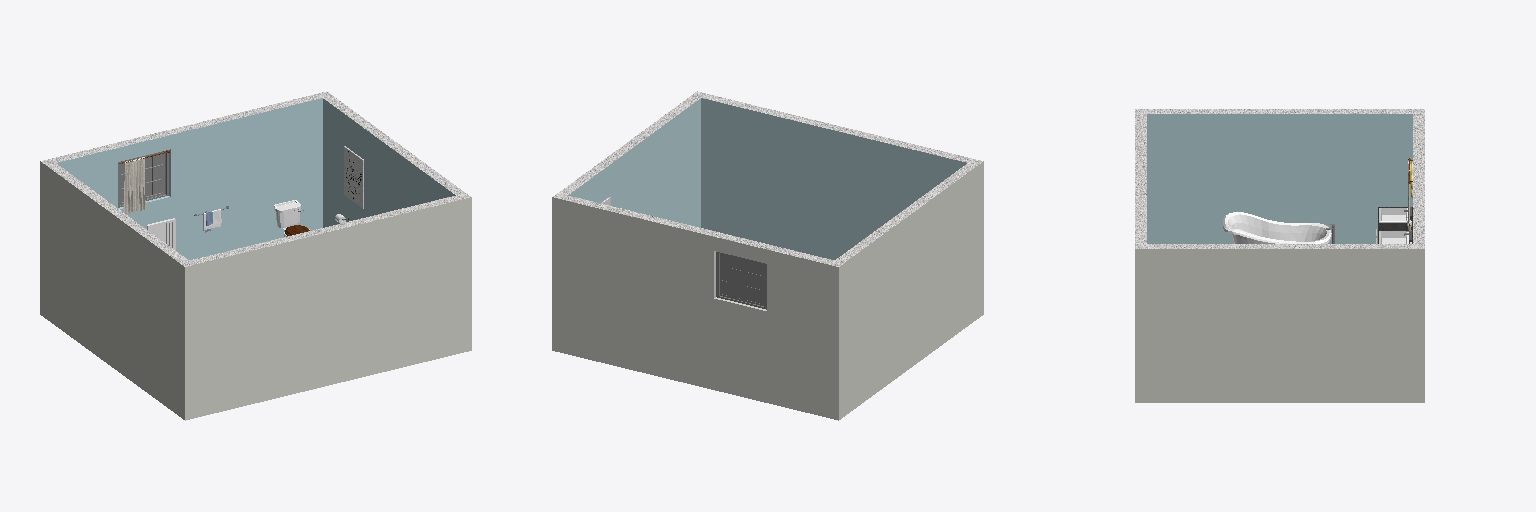
3 renders of one model, left to right at view 1: azimuth 30°, elevation 25°; view 2: azimuth 150°, elevation 25°; view 3: azimuth 270°, elevation 25°, orthographic.
Bounding box in the file's own units: 5.76 × 2.95 × 5.04.
54 materials, 12 textured.